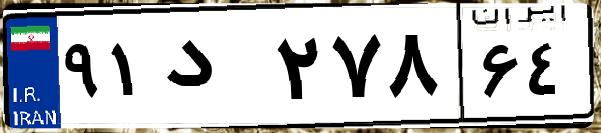1: (110, 28, 158, 98)
2: (270, 28, 330, 110)
4: (525, 38, 570, 115)
6: (475, 38, 525, 113)
7: (330, 28, 385, 110)
8: (385, 28, 445, 110)
9: (57, 26, 110, 100)
د: (158, 20, 270, 120)
